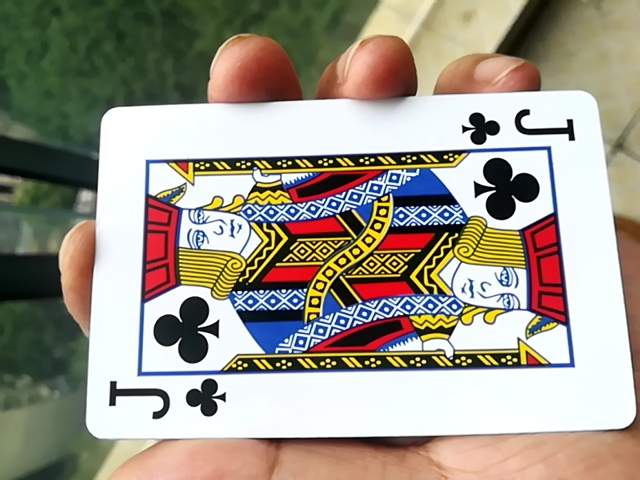mh j: (59, 101, 623, 454)
